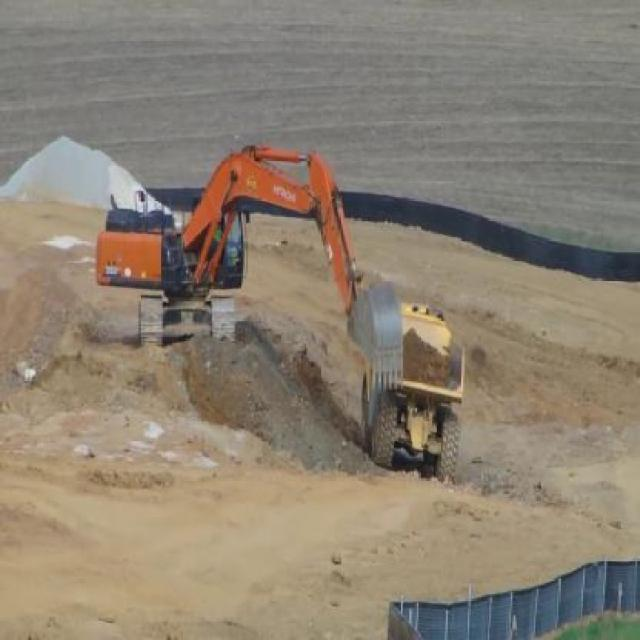Dump Truck: (358, 300, 468, 483)
Excavator: (91, 108, 406, 434)
